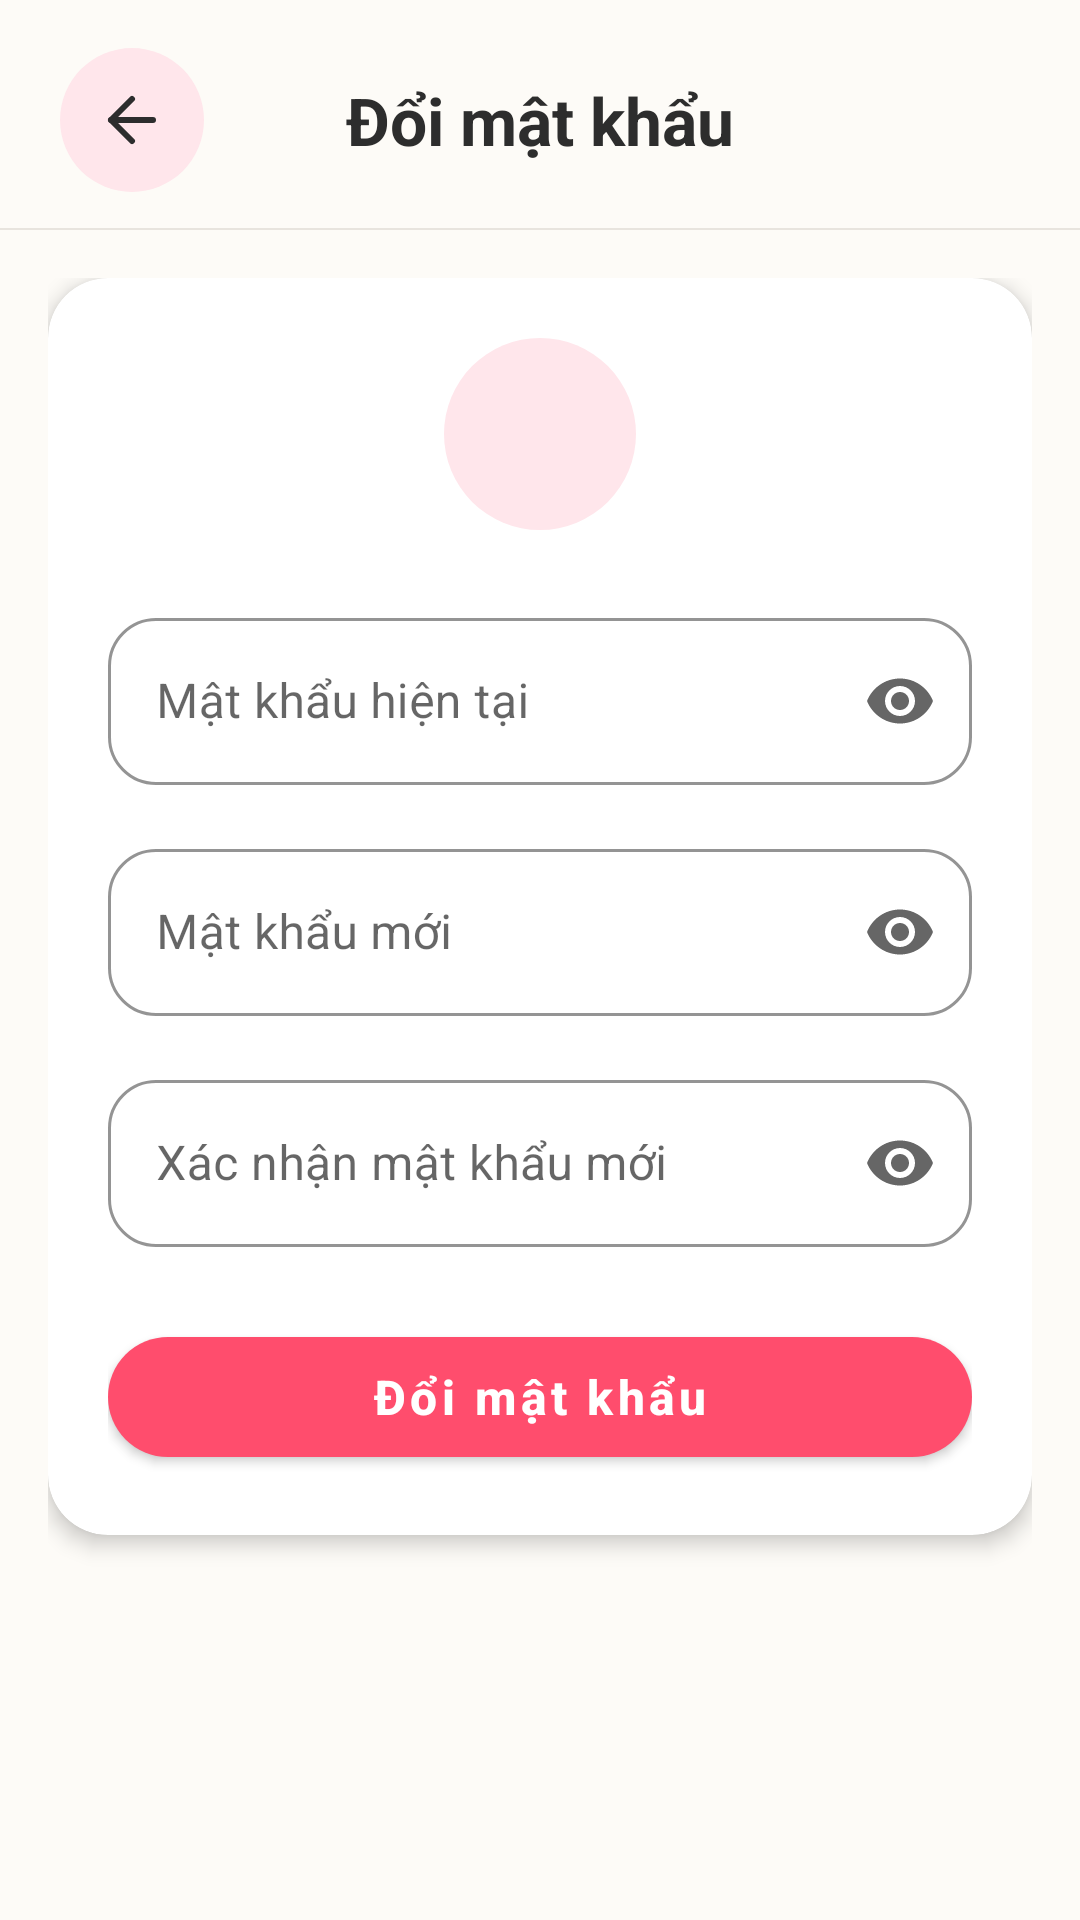

Icon click points for this 1080px×1920px phone screenshot, format point (x, y):
Back: point (132, 120)
